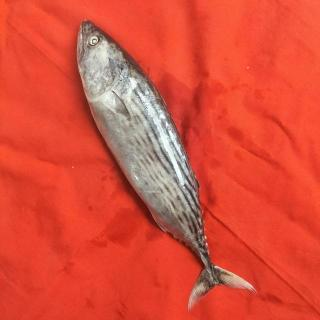Ikan: (68, 14, 271, 310)
